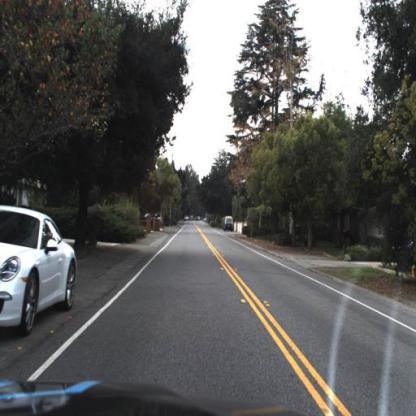car: (1, 202, 79, 338), (222, 212, 237, 235)
